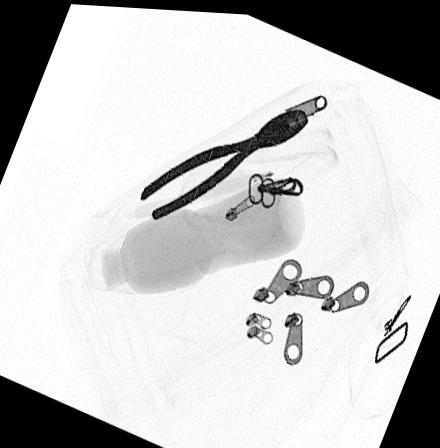Pliers: (135, 103, 312, 220)
